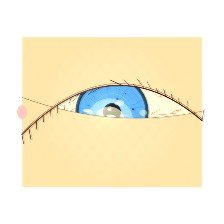corneal_ulcer: (85, 101, 134, 141)
